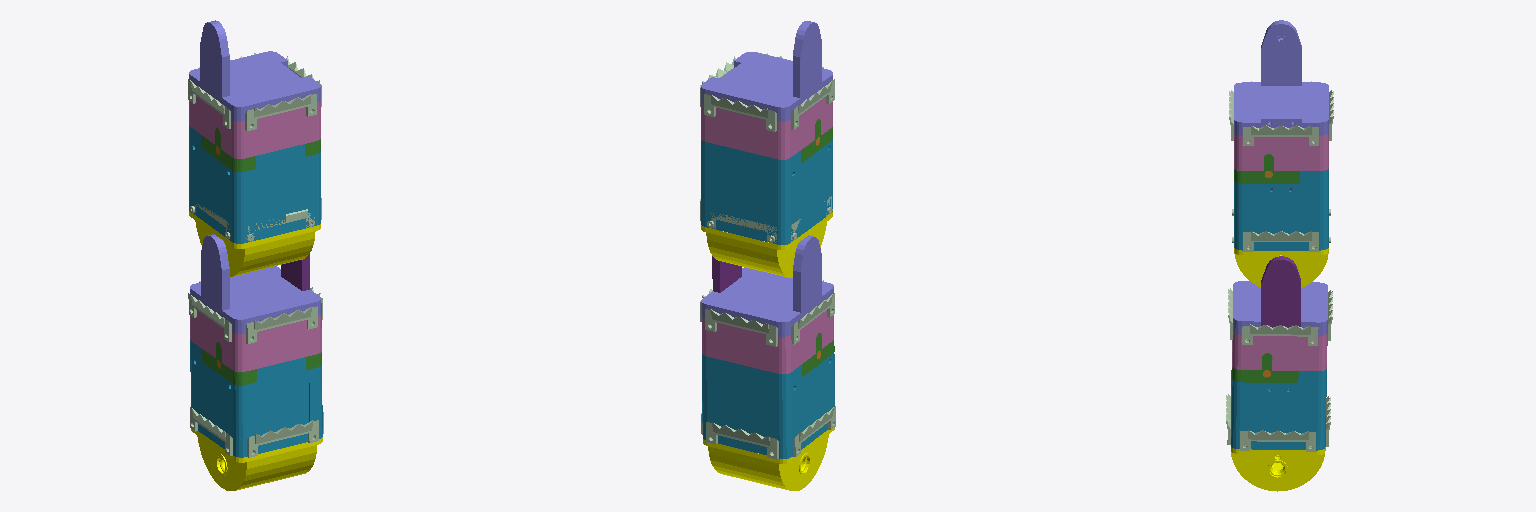
--- Facts derived from the render (not from the file) ---
Views: 3 orthographic renders of the robot side by side, from view 1: azimuth 30°, elevation 25°; view 2: azimuth 150°, elevation 25°; view 3: azimuth 270°, elevation 25°.
Robot: modulessai — 33 links, 32 joints (32 fixed); root link base_footprint; default pose: every joint at zero.
Links seen in each view (by area): view 1: shell2, shell1, slide_key_joint_2, slide_key_joint1, slide_key, slide_key2, joint_enclosure1, joint_enclosure2, scale6, scale16, scale2, slide_clip2 (+5 smaller); view 2: shell2, shell1, slide_key_joint_2, slide_key_joint1, slide_key2, slide_key, joint_enclosure1, joint_enclosure2, scale14, scale4, scale8, Slide_key_joint_single1 (+3 smaller); view 3: slide_key_joint_2, shell2, shell1, joint_enclosure1, slide_key, slide_key2, Slide_key_joint_single1, slide_key_joint1, joint_enclosure2, slide_clip4, scale3, scale15 (+3 smaller).
Boxes of the visible links, x1,y1,x2,y2 form: shell2: (189,126,320,243); shell1: (190,340,322,457); slide_key_joint_2: (189,20,320,120); slide_key_joint1: (190,234,321,333); slide_key: (190,310,321,371); slide_key2: (189,96,320,158); joint_enclosure1: (191,429,322,490); joint_enclosure2: (189,211,320,276); scale6: (246,306,317,343); scale16: (245,94,316,130); scale2: (247,420,318,457); slide_clip2: (202,342,256,385); shell2: (701,140,832,244); shell1: (702,354,834,458); slide_key_joint_2: (701,21,832,121); slide_key_joint1: (701,235,833,336); slide_key2: (701,97,832,159); slide_key: (701,310,833,373); joint_enclosure1: (703,428,834,490); joint_enclosure2: (701,212,832,277); scale14: (704,94,776,131); scale4: (706,422,778,459); scale8: (705,309,777,346); Slide_key_joint_single1: (712,256,741,292); slide_key_joint_2: (1234,20,1328,135); shell2: (1234,169,1328,250); shell1: (1231,369,1326,450); joint_enclosure1: (1231,447,1325,491); slide_key: (1232,332,1327,370); slide_key2: (1234,133,1328,170); Slide_key_joint_single1: (1261,256,1300,327); slide_key_joint1: (1233,281,1327,335); joint_enclosure2: (1234,248,1328,287); slide_clip4: (1234,154,1299,183); scale3: (1240,430,1315,451); scale15: (1243,125,1318,145).
Bounding box of the posed robot: 0.1 × 0.1028 × 0.4553 m (x, y, z).
Meshes: 32 distinct files referenced, 32 mesh visuals loaded (32 binary STL).

The robot description file, URDF, robot "modulessai":
<?xml version="1.0" encoding="utf-8"?>
<!-- This URDF was automatically created by SolidWorks to URDF Exporter! Originally created by Stephen Brawner ([email redacted]) 
     Commit Version: 1.6.0-4-g7f85cfe  Build Version: 1.6.7995.38578
     For more information, please see http://wiki.ros.org/sw_urdf_exporter -->
     
<!-- https://answers.ros.org/question/273947/moving-joints-in-gazebo-simple-example/
	here is a good explanation  -->
<robot
  name="modulessai">
  
       <gazebo>
    <plugin name="gazebo_ros_control" filename="libgazebo_ros_control.so">
      <robotNamespace>/modulessai</robotNamespace>
    </plugin>
  </gazebo>
  
    <!-- transmission -->
  <transmission name="serpent_main_trans">
    <type>transmission_interface/SimpleTransmission</type>
    <actuator name="motor1">
      <mechanicalReduction>1</mechanicalReduction>
    </actuator>
    <joint name="serpent_main_joint">
      <hardwareInterface>EffortJointInterface</hardwareInterface>
    </joint>
  </transmission>

  
  <link name= "base_footprint" />
  
  <joint name="base_footprint_joint" type="fixed">
    <parent link="base_footprint" />
    <child link="shell1" />
  	</joint>
  
  <link
    name="shell1">
    <inertial>
      <origin
        xyz="-0.137752474041725 -0.28857138668512 -0.0911551999213709"
        rpy="0 0 0" />
      <mass
        value="0.149969789596091" />
      <inertia
        ixx="0.000241116455312842"
        ixy="-2.60925021680345E-07"
        ixz="4.80846729441766E-06"
        iyy="0.000295272937582447"
        iyz="-7.25953669690205E-06"
        izz="0.000232451898515766" /> 
    </inertial> 
    <visual>
      <origin
        xyz="0 0 0"
        rpy="0 0 0" />
      <geometry>
        <mesh
          filename="package://modulessai/meshes/shell1.STL" />
      </geometry>
      <material
        name="">
        <color
          rgba="0.184313725490196 0.623529411764706 0.764705882352941 1" />
      </material>
    </visual>
    <collision>
      <origin
        xyz="0 0 0"
        rpy="0 0 0" />
      <geometry>
        <mesh
          filename="package://modulessai/meshes/shell1.STL" />
      </geometry>
    </collision>
  </link>
  
  
  <link
    name="joint_enclosure1">
    <inertial>
      <origin
        xyz="0.000728105326579437 0.0153717427480426 -1.38777878078145E-17"
        rpy="0 0 0" />
      <mass
        value="0.086298769218844" />
      <inertia
        ixx="9.26816517396861E-05"
        ixy="-4.43711727546318E-07"
        ixz="-2.90469731967602E-19"
        iyy="0.000134079311341853"
        iyz="2.76344499041715E-20"
        izz="8.33584269751399E-05" />
    </inertial>
    <visual>
      <origin
        xyz="0 0 0"
        rpy="0 0 0" />
      <geometry>
        <mesh
          filename="package://modulessai/meshes/joint_enclosure1.STL" />
      </geometry>
      <material
        name="">
        <color
          rgba="1 1 0 1" />
      </material>
    </visual>
    <collision>
      <origin
        xyz="0 0 0"
        rpy="0 0 0" />
      <geometry>
        <mesh
          filename="package://modulessai/meshes/joint_enclosure1.STL" />
      </geometry>
    </collision>
  </link>
  
  
  <joint
    name="link1"
    type="fixed">
    <origin
      xyz="-0.138611885720108 0.0874338259129821 -0.339597997361827"
      rpy="-1.55293238419691 0 -3.14159265358979" />
    <parent
      link="shell1" />
    <child
      link="joint_enclosure1" />
    <axis
      xyz="0 0 0" />
  </joint>
  
  
  <link
    name="scale1">
    <inertial>
      <origin
        xyz="0.00180494203523468 0.00171959315377845 2.77555756156289E-17"
        rpy="0 0 0" />
      <mass
        value="0.00277406773557276" />
      <inertia
        ixx="1.47877580081592E-06"
        ixy="-6.2959094439328E-09"
        ixz="4.52157602336799E-22"
        iyy="1.54068706060032E-06"
        iyz="-2.20276646159223E-20"
        izz="6.9326362321011E-08" />
    </inertial>
    <visual>
      <origin
        xyz="0 0 0"
        rpy="0 0 0" />
      <geometry>
        <mesh
          filename="package://modulessai/meshes/scale1.STL" />
      </geometry>
      <material
        name="">
        <color
          rgba="0.717647058823529 0.819607843137255 0.701960784313725 1" />
      </material>
    </visual>
    <collision>
      <origin
        xyz="0 0 0"
        rpy="0 0 0" />
      <geometry>
        <mesh
          filename="package://modulessai/meshes/scale1.STL" />
      </geometry>
    </collision>
  </link>
  
  
  <joint
    name="link2"
    type="fixed">
    <origin
      xyz="-0.183611885720101 0.0876577175390072 -0.323751468327803"
      rpy="0 -1.5529323841969 1.5707963267949" />
    <parent
      link="shell1" />
    <child
      link="scale1" />
    <axis
      xyz="0 0 0" />
  </joint>
  
  
  <link
    name="scale2">
    <inertial>
      <origin
        xyz="0.00180494203523462 0.00171959315377848 -2.77555756156289E-17"
        rpy="0 0 0" />
      <mass
        value="0.00277406773557276" />
      <inertia
        ixx="1.47877580081592E-06"
        ixy="-6.29590944393272E-09"
        ixz="1.75019022698003E-21"
        iyy="1.54068706060031E-06"
        iyz="7.86684050294891E-22"
        izz="6.93263623210111E-08" />
    </inertial>
    <visual>
      <origin
        xyz="0 0 0"
        rpy="0 0 0" />
      <geometry>
        <mesh
          filename="package://modulessai/meshes/scale2.STL" />
      </geometry>
      <material
        name="">
        <color
          rgba="0.717647058823529 0.819607843137255 0.701960784313725 1" />
      </material>
    </visual>
    <collision>
      <origin
        xyz="0 0 0"
        rpy="0 0 0" />
      <geometry>
        <mesh
          filename="package://modulessai/meshes/scale2.STL" />
      </geometry>
    </collision>
  </link>
  
  
  <joint
    name="link3"
    type="fixed">
    <origin
      xyz="-0.138611885720103 0.0426648975580864 -0.32294763366583"
      rpy="1.5707963267944 -1.55293238419692 1.57079632679536" />
    <parent
      link="shell1" />
    <child
      link="scale2" />
    <axis
      xyz="0 0 0" />
  </joint>
  
  
  <link
    name="scale3">
    <inertial>
      <origin
        xyz="0.00180494203523474 0.00171959315377847 -1.38777878078145E-17"
        rpy="0 0 0" />
      <mass
        value="0.00277406773557275" />
      <inertia
        ixx="1.47877580081591E-06"
        ixy="-6.29590944393247E-09"
        ixz="1.15288297874578E-22"
        iyy="1.54068706060031E-06"
        iyz="3.17440826385798E-22"
        izz="6.93263623210108E-08" />
    </inertial>
    <visual>
      <origin
        xyz="0 0 0"
        rpy="0 0 0" />
      <geometry>
        <mesh
          filename="package://modulessai/meshes/scale3.STL" />
      </geometry>
      <material
        name="">
        <color
          rgba="0.717647058823529 0.819607843137255 0.701960784313725 1" />
      </material>
    </visual>
    <collision>
      <origin
        xyz="0 0 0"
        rpy="0 0 0" />
      <geometry>
        <mesh
          filename="package://modulessai/meshes/scale3.STL" />
      </geometry>
    </collision>
  </link>
  
  
  <joint
    name="link4"
    type="fixed">
    <origin
      xyz="-0.0936118857201089 0.0876577175390119 -0.323751468327802"
      rpy="3.14159265358979 -1.5529323841969 1.57079632679488" />
    <parent
      link="shell1" />
    <child
      link="scale3" />
    <axis
      xyz="0 0 0" />
  </joint>
  
  
  <link
    name="scale4">
    <inertial>
      <origin
        xyz="0.00180494203523468 0.00171959315377848 0"
        rpy="0 0 0" />
      <mass
        value="0.00277406773557275" />
      <inertia
        ixx="1.47877580081592E-06"
        ixy="-6.29590944393258E-09"
        ixz="-1.96229555091384E-21"
        iyy="1.54068706060032E-06"
        iyz="8.4361466844145E-22"
        izz="6.93263623210107E-08" />
    </inertial>
    <visual>
      <origin
        xyz="0 0 0"
        rpy="0 0 0" />
      <geometry>
        <mesh
          filename="package://modulessai/meshes/scale4.STL" />
      </geometry>
      <material
        name="">
        <color
          rgba="0.717647058823529 0.819607843137255 0.701960784313725 1" />
      </material>
    </visual>
    <collision>
      <origin
        xyz="0 0 0"
        rpy="0 0 0" />
      <geometry>
        <mesh
          filename="package://modulessai/meshes/scale4.STL" />
      </geometry>
    </collision>
  </link>
  
  
  <joint
    name="link5"
    type="fixed">
    <origin
      xyz="-0.138611885720101 0.132650537519933 -0.324555302989774"
      rpy="-1.57079632679539 -1.55293238419692 1.57079632679536" />
    <parent
      link="shell1" />
    <child
      link="scale4" />
    <axis
      xyz="0 0 0" />
  </joint>
  
  
  <link
    name="slide_clip1">
    <inertial>
      <origin
        xyz="0.0234487598891086 0.00135531493757457 -0.00207575724154209"
        rpy="0 0 0" />
      <mass
        value="0.00341955141627611" />
      <inertia
        ixx="2.23045867605256E-07"
        ixy="-3.49967441924723E-08"
        ixz="-2.11254063898286E-07"
        iyy="1.45766429318795E-06"
        iyz="-1.44678561290794E-08"
        izz="1.47815966491544E-06" />
    </inertial>
    <visual>
      <origin
        xyz="0 0 0"
        rpy="0 0 0" />
      <geometry>
        <mesh
          filename="package://modulessai/meshes/slide_clip1.STL" />
      </geometry>
      <material
        name="">
        <color
          rgba="0.298039215686275 0.6 0.23921568627451 1" />
      </material>
    </visual>
    <collision>
      <origin
        xyz="0 0 0"
        rpy="0 0 0" />
      <geometry>
        <mesh
          filename="package://modulessai/meshes/slide_clip1.STL" />
      </geometry>
    </collision>
  </link>
  
  
  <joint
    name="link6"
    type="fixed">
    <origin
      xyz="-0.0956118857201107 0.045837319628965 -0.257341834819973"
      rpy="1.5707963267949 0.0178639425979808 1.57079632679487" />
    <parent
      link="shell1" />
    <child
      link="slide_clip1" />
    <axis
      xyz="0 0 0" />
  </joint>
  
  
  <link
    name="slide_clip2">
    <inertial>
      <origin
        xyz="0.0234487598891086 -0.00135531493757463 -0.00207575724154208"
        rpy="0 0 0" />
      <mass
        value="0.0034195514162761" />
      <inertia
        ixx="2.23045867605256E-07"
        ixy="3.49967441924725E-08"
        ixz="-2.11254063898287E-07"
        iyy="1.45766429318795E-06"
        iyz="1.44678561290795E-08"
        izz="1.47815966491544E-06" />
    </inertial>
    <visual>
      <origin
        xyz="0 0 0"
        rpy="0 0 0" />
      <geometry>
        <mesh
          filename="package://modulessai/meshes/slide_clip2.STL" />
      </geometry>
      <material
        name="">
        <color
          rgba="0.298039215686275 0.6 0.23921568627451 1" />
      </material>
    </visual>
    <collision>
      <origin
        xyz="0 0 0"
        rpy="0 0 0" />
      <geometry>
        <mesh
          filename="package://modulessai/meshes/slide_clip2.STL" />
      </geometry>
    </collision>
  </link>
  
  
  <joint
    name="link7"
    type="fixed">
    <origin
      xyz="-0.181611885720103 0.0458373196289683 -0.257341834819973"
      rpy="-1.5707963267949 0.0178639425979808 1.57079632679487" />
    <parent
      link="shell1" />
    <child
      link="slide_clip2" />
    <axis
      xyz="0 0 0" />
  </joint>
  
  
  <link
    name="slide_arm">
    <inertial>
      <origin
        xyz="-1.38777878078145E-16 -0.00481240110658876 0.0117181257665583"
        rpy="0 0 0" />
      <mass
        value="0.0348117344572538" />
      <inertia
        ixx="9.03849739921105E-06"
        ixy="-5.3280430666022E-20"
        ixz="-3.97812755362216E-19"
        iyy="4.17590858992555E-05"
        iyz="5.70343658389085E-08"
        izz="3.49135501039211E-05" />
    </inertial>
    <visual>
      <origin
        xyz="0 0 0"
        rpy="0 0 0" />
      <geometry>
        <mesh
          filename="package://modulessai/meshes/slide_arm.STL" />
      </geometry>
      <material
        name="">
        <color
          rgba="0.858823529411765 0.568627450980392 0.215686274509804 1" />
      </material>
    </visual>
    <collision>
      <origin
        xyz="0 0 0"
        rpy="0 0 0" />
      <geometry>
        <mesh
          filename="package://modulessai/meshes/slide_arm.STL" />
      </geometry>
    </collision>
  </link>
  
  
  <joint
    name="link8"
    type="fixed">
    <origin
      xyz="0.0429999999999996 -0.0104999999999987 -0.0430000000000005"
      rpy="3.14159265358979 1.5707963267949 0" />
    <parent
      link="slide_clip2" />
    <child
      link="slide_arm" />
    <axis
      xyz="0 0 0" />
  </joint>
  
  
  <link
    name="slide_key">
    <inertial>
      <origin
        xyz="-2.77555756156289E-17 0.0261791873249705 0.000493743649983239"
        rpy="0 0 0" />
      <mass
        value="0.0788872703821433" />
      <inertia
        ixx="9.11147019581268E-05"
        ixy="-8.87335562729999E-20"
        ixz="-1.30304976498355E-19"
        iyy="0.000144612810542726"
        iyz="-1.56020046014635E-06"
        izz="7.99530497194302E-05" />
    </inertial>
    <visual>
      <origin
        xyz="0 0 0"
        rpy="0 0 0" />
      <geometry>
        <mesh
          filename="package://modulessai/meshes/slide_key.STL" />
      </geometry>
      <material
        name="">
        <color
          rgba="0.807843137254902 0.509803921568627 0.729411764705882 1" />
      </material>
    </visual>
    <collision>
      <origin
        xyz="0 0 0"
        rpy="0 0 0" />
      <geometry>
        <mesh
          filename="package://modulessai/meshes/slide_key.STL" />
      </geometry>
    </collision>
  </link>
  
  
  <joint
    name="link9"
    type="fixed">
    <origin
      xyz="-0.138611885720102 0.0896074988950939 -0.214616884182071"
      rpy="-1.5529323841969 0 -3.14159265358979" />
    <parent
      link="shell1" />
    <child
      link="slide_key" />
    <axis
      xyz="0 0 0" />
  </joint>
  
  
  <link
    name="scale5">
    <inertial>
      <origin
        xyz="0.00180494203523471 0.00171959315377845 1.38777878078145E-17"
        rpy="0 0 0" />
      <mass
        value="0.00277406773557275" />
      <inertia
        ixx="1.47877580081591E-06"
        ixy="-6.29590944393263E-09"
        ixz="-1.90768528770042E-22"
        iyy="1.54068706060031E-06"
        iyz="-2.19860333819092E-20"
        izz="6.93263623210107E-08" />
    </inertial>
    <visual>
      <origin
        xyz="0 0 0"
        rpy="0 0 0" />
      <geometry>
        <mesh
          filename="package://modulessai/meshes/scale5.STL" />
      </geometry>
      <material
        name="">
        <color
          rgba="0.717647058823529 0.819607843137255 0.701960784313725 1" />
      </material>
    </visual>
    <collision>
      <origin
        xyz="0 0 0"
        rpy="0 0 0" />
      <geometry>
        <mesh
          filename="package://modulessai/meshes/scale5.STL" />
      </geometry>
    </collision>
  </link>
  
  
  <joint
    name="link10"
    type="fixed">
    <origin
      xyz="0.044999999999999 -0.00142400000000018 0"
      rpy="0 0 -1.5707963267949" />
    <parent
      link="slide_key" />
    <child
      link="scale5" />
    <axis
      xyz="0 0 0" />
  </joint>
  
  
  <link
    name="scale6">
    <inertial>
      <origin
        xyz="0.00180494203523471 0.00171959315377847 2.77555756156289E-17"
        rpy="0 0 0" />
      <mass
        value="0.00277406773557275" />
      <inertia
        ixx="1.47877580081592E-06"
        ixy="-6.29590944393274E-09"
        ixz="2.27643895219469E-21"
        iyy="1.54068706060031E-06"
        iyz="-1.72724543618611E-21"
        izz="6.93263623210109E-08" />
    </inertial>
    <visual>
      <origin
        xyz="0 0 0"
        rpy="0 0 0" />
      <geometry>
        <mesh
          filename="package://modulessai/meshes/scale6.STL" />
      </geometry>
      <material
        name="">
        <color
          rgba="0.717647058823529 0.819607843137255 0.701960784313725 1" />
      </material>
    </visual>
    <collision>
      <origin
        xyz="0 0 0"
        rpy="0 0 0" />
      <geometry>
        <mesh
          filename="package://modulessai/meshes/scale6.STL" />
      </geometry>
    </collision>
  </link>
  
  
  <joint
    name="link11"
    type="fixed">
    <origin
      xyz="0 -0.0014240000000004 0.045"
      rpy="1.57079632679488 0 -1.57079632679489" />
    <parent
      link="slide_key" />
    <child
      link="scale6" />
    <axis
      xyz="0 0 0" />
  </joint>
  
  
  <link
    name="scale7">
    <inertial>
      <origin
        xyz="0.00180494203523471 0.00171959315377847 0"
        rpy="0 0 0" />
      <mass
        value="0.00277406773557276" />
      <inertia
        ixx="1.47877580081592E-06"
        ixy="-6.29590944393265E-09"
        ixz="5.6351679230175E-23"
        iyy="1.54068706060032E-06"
        iyz="5.21173611065069E-22"
        izz="6.93263623210111E-08" />
    </inertial>
    <visual>
      <origin
        xyz="0 0 0"
        rpy="0 0 0" />
      <geometry>
        <mesh
          filename="package://modulessai/meshes/scale7.STL" />
      </geometry>
      <material
        name="">
        <color
          rgba="0.717647058823529 0.819607843137255 0.701960784313725 1" />
      </material>
    </visual>
    <collision>
      <origin
        xyz="0 0 0"
        rpy="0 0 0" />
      <geometry>
        <mesh
          filename="package://modulessai/meshes/scale7.STL" />
      </geometry>
    </collision>
  </link>
  
  
  <joint
    name="link12"
    type="fixed">
    <origin
      xyz="-0.045 -0.00142399999999981 0"
      rpy="3.14159265358978 0 -1.5707963267949" />
    <parent
      link="slide_key" />
    <child
      link="scale7" />
    <axis
      xyz="0 0 0" />
  </joint>
  
  
  <link
    name="scale8">
    <inertial>
      <origin
        xyz="0.00180494203523471 0.00171959315377848 0"
        rpy="0 0 0" />
      <mass
        value="0.00277406773557276" />
      <inertia
        ixx="1.47877580081592E-06"
        ixy="-6.29590944393263E-09"
        ixz="-2.66115800927088E-21"
        iyy="1.54068706060032E-06"
        iyz="-1.7881667874025E-21"
        izz="6.93263623210113E-08" />
    </inertial>
    <visual>
      <origin
        xyz="0 0 0"
        rpy="0 0 0" />
      <geometry>
        <mesh
          filename="package://modulessai/meshes/scale8.STL" />
      </geometry>
      <material
        name="">
        <color
          rgba="0.717647058823529 0.819607843137255 0.701960784313725 1" />
      </material>
    </visual>
    <collision>
      <origin
        xyz="0 0 0"
        rpy="0 0 0" />
      <geometry>
        <mesh
          filename="package://modulessai/meshes/scale8.STL" />
      </geometry>
    </collision>
  </link>
  
  
  <joint
    name="link13"
    type="fixed">
    <origin
      xyz="0 -0.00142400000000062 -0.044999999999999"
      rpy="-1.57079632679491 0 -1.57079632679489" />
    <parent
      link="slide_key" />
    <child
      link="scale8" />
    <axis
      xyz="0 0 0" />
  </joint>
  
  
  <link
    name="slide_key_joint1">
    <inertial>
      <origin
        xyz="-0.00611883580857539 0.0105253613332661 -8.32667268468867E-17"
        rpy="0 0 0" />
      <mass
        value="0.139120636589193" />
      <inertia
        ixx="0.00011952290446569"
        ixy="2.35906411700336E-05"
        ixz="-2.96355652420615E-19"
        iyy="0.0001952269452155"
        iyz="3.30131091192364E-19"
        izz="0.000137197507218594" />
    </inertial>
    <visual>
      <origin
        xyz="0 0 0"
        rpy="0 0 0" />
      <geometry>
        <mesh
          filename="package://modulessai/meshes/slide_key_joint1.STL" />
      </geometry>
      <material
        name="">
        <color
          rgba="0.552941176470588 0.549019607843137 0.890196078431372 1" />
      </material>
    </visual>
    <collision>
      <origin
        xyz="0 0 0"
        rpy="0 0 0" />
      <geometry>
        <mesh
          filename="package://modulessai/meshes/slide_key_joint1.STL" />
      </geometry>
    </collision>
  </link>
  
  
  <joint
    name="link14"
    type="fixed">
    <origin
      xyz="0 0 0"
      rpy="0 0 3.14159265358969" />
    <parent
      link="slide_key" />
    <child
      link="slide_key_joint1" />
    <axis
      xyz="0 0 0" />
  </joint>
  
  
  <link
    name="joint_enclosure2">
    <inertial>
      <origin
        xyz="0.000728105326579465 0.0153717427480425 0"
        rpy="0 0 0" />
      <mass
        value="0.0862987692188441" />
      <inertia
        ixx="9.26816517396861E-05"
        ixy="-4.43711727546301E-07"
        ixz="-1.34701800953061E-19"
        iyy="0.000134079311341853"
        iyz="4.95646481478354E-21"
        izz="8.33584269751398E-05" />
    </inertial>
    <visual>
      <origin
        xyz="0 0 0"
        rpy="0 0 0" />
      <geometry>
        <mesh
          filename="package://modulessai/meshes/joint_enclosure2.STL" />
      </geometry>
      <material
        name="">
        <color
          rgba="1 1 0 1" />
      </material>
    </visual>
    <collision>
      <origin
        xyz="0 0 0"
        rpy="0 0 0" />
      <geometry>
        <mesh
          filename="package://modulessai/meshes/joint_enclosure2.STL" />
      </geometry>
    </collision>
  </link>
  
  
  <joint
    name="link16"
    type="fixed">
    <origin
      xyz="0 0.0837468487694076 0.00035279410164156"
      rpy="-0.0178639425979842 0 -3.14159265358969" />
    <parent
      link="slide_key_joint1" />
    <child
      link="joint_enclosure2" />
    <axis
      xyz="0 0 0" />
  </joint>
  
  
  <link
    name="shell2">
    <inertial>
      <origin
        xyz="-0.00085941167838019 -0.00286850280401474 0.00708494395182878"
        rpy="0 0 0" />
      <mass
        value="0.149969789596091" />
      <inertia
        ixx="0.000241116455312841"
        ixy="-4.80303917300663E-06"
        ixz="3.46777004692976E-07"
        iyy="0.000232212631143815"
        iyz="-6.13291115683898E-06"
        izz="0.000295512204954397" />
    </inertial>
    <visual>
      <origin
        xyz="0 0 0"
        rpy="0 0 0" />
      <geometry>
        <mesh
          filename="package://modulessai/meshes/shell2.STL" />
      </geometry>
      <material
        name="">
        <color
          rgba="0.184313725490196 0.623529411764706 0.764705882352941 1" />
      </material>
    </visual>
    <collision>
      <origin
        xyz="0 0 0"
        rpy="0 0 0" />
      <geometry>
        <mesh
          filename="package://modulessai/meshes/shell2.STL" />
      </geometry>
    </collision>
  </link>
  
  
  <joint
    name="link17"
    type="fixed">
    <origin
      xyz="0 -0.043999999999996 5.92105263200055E-05"
      rpy="1.57079632679491 0 0" />
    <parent
      link="joint_enclosure2" />
    <child
      link="shell2" />
    <axis
      xyz="0 0 0" />
  </joint>
  
  
  <link
    name="scale9">
    <inertial>
      <origin
        xyz="0.00180494203523471 0.00171959315377848 8.32667268468867E-17"
        rpy="0 0 0" />
      <mass
        value="0.00277406773557275" />
      <inertia
        ixx="1.47877580081591E-06"
        ixy="-6.2959094439327E-09"
        ixz="-1.19189599054522E-22"
        iyy="1.54068706060031E-06"
        iyz="-1.4793884274204E-21"
        izz="6.93263623210108E-08" />
    </inertial>
    <visual>
      <origin
        xyz="0 0 0"
        rpy="0 0 0" />
      <geometry>
        <mesh
          filename="package://modulessai/meshes/scale9.STL" />
      </geometry>
      <material
        name="">
        <color
          rgba="0.717647058823529 0.819607843137255 0.701960784313725 1" />
      </material>
    </visual>
    <collision>
      <origin
        xyz="0 0 0"
        rpy="0 0 0" />
      <geometry>
        <mesh
          filename="package://modulessai/meshes/scale9.STL" />
      </geometry>
    </collision>
  </link>
  
  
  <joint
    name="link18"
    type="fixed">
    <origin
      xyz="0 -0.0449999999999954 -0.0281519999999963"
      rpy="0 -1.5707963267949 0" />
    <parent
      link="shell2" />
    <child
      link="scale9" />
    <axis
      xyz="0 0 0" />
  </joint>
  
  
  <link
    name="scale10">
    <inertial>
      <origin
        xyz="0.00180494203523469 0.00171959315377848 1.38777878078145E-17"
        rpy="0 0 0" />
      <mass
        value="0.00277406773557276" />
      <inertia
        ixx="1.47877580081592E-06"
        ixy="-6.29590944393266E-09"
        ixz="2.10183701632039E-20"
        iyy="1.54068706060032E-06"
        iyz="-1.03458240094092E-22"
        izz="6.93263623210108E-08" />
    </inertial>
    <visual>
      <origin
        xyz="0 0 0"
        rpy="0 0 0" />
      <geometry>
        <mesh
          filename="package://modulessai/meshes/scale10.STL" />
      </geometry>
      <material
        name="">
        <color
          rgba="0.717647058823529 0.819607843137255 0.701960784313725 1" />
      </material>
    </visual>
    <collision>
      <origin
        xyz="0 0 0"
        rpy="0 0 0" />
      <geometry>
        <mesh
          filename="package://modulessai/meshes/scale10.STL" />
      </geometry>
    </collision>
  </link>
  
  
  <joint
    name="link19"
    type="fixed">
    <origin
      xyz="-0.0449999999999958 0 -0.0281519999999962"
      rpy="1.5707963267949 -1.5707963267949 0" />
    <parent
      link="shell2" />
    <child
      link="scale10" />
    <axis
      xyz="0 0 0" />
  </joint>
  
  
  <link
    name="scale11">
    <inertial>
      <origin
        xyz="0.00180494203523468 0.00171959315377847 -2.77555756156289E-17"
        rpy="0 0 0" />
      <mass
        value="0.00277406773557276" />
      <inertia
        ixx="1.47877580081592E-06"
        ixy="-6.29590944393265E-09"
        ixz="7.07386108021792E-22"
        iyy="1.54068706060031E-06"
        iyz="-1.70248478291909E-21"
        izz="6.9326362321011E-08" />
    </inertial>
    <visual>
      <origin
        xyz="0 0 0"
        rpy="0 0 0" />
      <geometry>
        <mesh
          filename="package://modulessai/meshes/scale11.STL" />
      </geometry>
      <material
        name="">
        <color
          rgba="0.717647058823529 0.819607843137255 0.701960784313725 1" />
      </material>
    </visual>
    <collision>
      <origin
        xyz="0 0 0"
        rpy="0 0 0" />
      <geometry>
        <mesh
          filename="package://modulessai/meshes/scale11.STL" />
      </geometry>
    </collision>
  </link>
  
  
  <joint
    name="link20"
    type="fixed">
    <origin
      xyz="0 0.0449999999999946 -0.0281519999999967"
      rpy="3.14159265358979 -1.5707963267949 0" />
    <parent
      link="shell2" />
    <child
      link="scale11" />
    <axis
      xyz="0 0 0" />
  </joint>
  
  
  <link
    name="scale12">
    <inertial>
      <origin
        xyz="0.00180494203523472 0.00171959315377851 -1.38777878078145E-17"
        rpy="0 0 0" />
      <mass
        value="0.00277406773557276" />
      <inertia
        ixx="1.47877580081592E-06"
        ixy="-6.29590944393267E-09"
        ixz="-2.11549896033941E-20"
        iyy="1.54068706060032E-06"
        iyz="9.56655464085523E-23"
        izz="6.93263623210111E-08" />
    </inertial>
    <visual>
      <origin
        xyz="0 0 0"
        rpy="0 0 0" />
      <geometry>
        <mesh
          filename="package://modulessai/meshes/scale12.STL" />
      </geometry>
      <material
        name="">
        <color
          rgba="0.717647058823529 0.819607843137255 0.701960784313725 1" />
      </material>
    </visual>
    <collision>
      <origin
        xyz="0 0 0"
        rpy="0 0 0" />
      <geometry>
        <mesh
          filename="package://modulessai/meshes/scale12.STL" />
      </geometry>
    </collision>
  </link>
  
  
  <joint
    name="link21"
    type="fixed">
    <origin
      xyz="0.0449999999999962 0 -0.0281519999999967"
      rpy="1.5707963267949 -1.5707963267949 0" />
    <parent
      link="shell2" />
    <child
      link="scale12" />
    <axis
      xyz="0 0 0" />
  </joint>
  
  
  <link
    name="slide_clip3">
    <inertial>
      <origin
        xyz="0.0234487598891084 -0.0013553149375747 -0.00207575724154238"
        rpy="0 0 0" />
      <mass
        value="0.0034195514162761" />
      <inertia
        ixx="2.23045867605252E-07"
        ixy="3.49967441924773E-08"
        ixz="-2.11254063898272E-07"
        iyy="1.45766429318795E-06"
        iyz="1.44678561290803E-08"
        izz="1.47815966491544E-06" />
    </inertial>
    <visual>
      <origin
        xyz="0 0 0"
        rpy="0 0 0" />
      <geometry>
        <mesh
          filename="package://modulessai/meshes/slide_clip3.STL" />
      </geometry>
      <material
        name="">
        <color
          rgba="0.298039215686275 0.6 0.23921568627451 1" />
      </material>
    </visual>
    <collision>
      <origin
        xyz="0 0 0"
        rpy="0 0 0" />
      <geometry>
        <mesh
          filename="package://modulessai/meshes/slide_clip3.STL" />
      </geometry>
    </collision>
  </link>
  
  
  <joint
    name="link22"
    type="fixed">
    <origin
      xyz="0.0429999999999968 0.0429999999999946 0.0374999999999956"
      rpy="-1.57079632679489 0 -1.5707963267949" />
    <parent
      link="shell2" />
    <child
      link="slide_clip3" />
    <axis
      xyz="0 0 0" />
  </joint>
  
  
  <link
    name="slide_arm2">
    <inertial>
      <origin
        xyz="-2.77555756156289E-17 -0.00481240110658882 0.0117181257665583"
        rpy="0 0 0" />
      <mass
        value="0.0348117344572539" />
      <inertia
        ixx="9.03849739921106E-06"
        ixy="8.81047252945334E-22"
        ixz="2.87950685439692E-21"
        iyy="4.17590858992556E-05"
        iyz="5.70343658389088E-08"
        izz="3.49135501039212E-05" />
    </inertial>
    <visual>
      <origin
        xyz="0 0 0"
        rpy="0 0 0" />
      <geometry>
        <mesh
          filename="package://modulessai/meshes/slide_arm2.STL" />
      </geometry>
      <material
        name="">
        <color
          rgba="0.858823529411765 0.568627450980392 0.215686274509804 1" />
      </material>
    </visual>
    <collision>
      <origin
        xyz="0 0 0"
        rpy="0 0 0" />
      <geometry>
        <mesh
          filename="package://modulessai/meshes/slide_arm2.STL" />
      </geometry>
    </collision>
  </link>
  
  
  <joint
    name="link24"
    type="fixed">
    <origin
      xyz="0.042999999999999 -0.010499999999999 -0.043000000000001"
      rpy="3.14159265358979 1.5707963267949 0" />
    <parent
      link="slide_clip3" />
    <child
      link="slide_arm2" />
    <axis
      xyz="0 0 0" />
  </joint>
  
  
  <link
    name="slide_clip4">
    <inertial>
      <origin
        xyz="0.0234487598891085 0.00135531493757467 -0.00207575724154178"
        rpy="0 0 0" />
      <mass
        value="0.00341955141627611" />
      <inertia
        ixx="2.23045867605264E-07"
        ixy="-3.49967441924764E-08"
        ixz="-2.11254063898307E-07"
        iyy="1.45766429318795E-06"
        iyz="-1.44678561290807E-08"
        izz="1.47815966491544E-06" />
    </inertial>
    <visual>
      <origin
        xyz="0 0 0"
        rpy="0 0 0" />
      <geometry>
        <mesh
          filename="package://modulessai/meshes/slide_clip4.STL" />
      </geometry>
      <material
        name="">
        <color
          rgba="0.298039215686275 0.6 0.23921568627451 1" />
      </material>
    </visual>
    <collision>
      <origin
        xyz="0 0 0"
        rpy="0 0 0" />
      <geometry>
        <mesh
          filename="package://modulessai/meshes/slide_clip4.STL" />
      </geometry>
    </collision>
  </link>
  
  
  <joint
    name="link23"
    type="fixed">
    <origin
      xyz="-0.0429999999999952 0.0429999999999966 0.0374999999999941"
      rpy="1.5707963267949 0 -1.5707963267949" />
    <parent
      link="shell2" />
    <child
      link="slide_clip4" />
    <axis
      xyz="0 0 0" />
  </joint>
  
  
  <link
    name="slide_key2">
    <inertial>
      <origin
        xyz="0 0.0261791873249705 0.000493743649983586"
        rpy="0 0 0" />
      <mass
        value="0.0788872703821434" />
      <inertia
        ixx="9.11147019581269E-05"
        ixy="5.42290601080777E-20"
        ixz="-9.93327290134446E-21"
        iyy="0.000144612810542726"
        iyz="-1.56020046014546E-06"
        izz="7.99530497194301E-05" />
    </inertial>
    <visual>
      <origin
        xyz="0 0 0"
        rpy="0 0 0" />
      <geometry>
        <mesh
          filename="package://modulessai/meshes/slide_key2.STL" />
      </geometry>
      <material
        name="">
        <color
          rgba="0.807843137254902 0.509803921568627 0.729411764705882 1" />
      </material>
    </visual>
    <collision>
      <origin
        xyz="0 0 0"
        rpy="0 0 0" />
      <geometry>
        <mesh
          filename="package://modulessai/meshes/slide_key2.STL" />
      </geometry>
    </collision>
  </link>
  
  
  <joint
    name="link25"
    type="fixed">
    <origin
      xyz="0 0 0.080999999999995"
      rpy="-1.57079632679491 0 0" />
    <parent
      link="shell2" />
    <child
      link="slide_key2" />
    <axis
      xyz="0 0 0" />
  </joint>
  
  
  <link
    name="slide_key_joint_2">
    <inertial>
      <origin
        xyz="-0.00611883580857434 0.0105253613332667 1.38777878078145E-17"
        rpy="0 0 0" />
      <mass
        value="0.139120636589193" />
      <inertia
        ixx="0.000119522904465695"
        ixy="2.35906411700413E-05"
        ixz="-1.00524664473982E-20"
        iyy="0.000195226945215495"
        iyz="1.40316547446192E-20"
        izz="0.000137197507218594" />
    </inertial>
    <visual>
      <origin
        xyz="0 0 0"
        rpy="0 0 0" />
      <geometry>
        <mesh
          filename="package://modulessai/meshes/slide_key_joint_2.STL" />
      </geometry>
      <material
        name="">
        <color
          rgba="0.552941176470588 0.549019607843137 0.890196078431372 1" />
      </material>
    </visual>
    <collision>
      <origin
        xyz="0 0 0"
        rpy="0 0 0" />
      <geometry>
        <mesh
          filename="package://modulessai/meshes/slide_key_joint_2.STL" />
      </geometry>
    </collision>
  </link>
  
  
  <joint
    name="link26"
    type="fixed">
    <origin
      xyz="0 0 0"
      rpy="0 0 3.14159265358979" />
    <parent
      link="slide_key2" />
    <child
      link="slide_key_joint_2" />
    <axis
      xyz="0 0 0" />
  </joint>
  
  
  <link
    name="Slide_key_joint_single2">
    <inertial>
      <origin
        xyz="-5.13478148889135E-16 -0.00400640060057854 -0.0345669419794044"
        rpy="0 0 0" />
      <mass
        value="0.0205196549446732" />
      <inertia
        ixx="8.52952925068962E-06"
        ixy="-1.1796237736564E-22"
        ixz="-9.24303762246536E-20"
        iyy="1.06743834501377E-05"
        iyz="-1.03900638216467E-08"
        izz="2.36373305241899E-06" />
    </inertial>
    <visual>
      <origin
        xyz="0 0 0"
        rpy="0 0 0" />
      <geometry>
        <mesh
          filename="package://modulessai/meshes/Slide_key_joint_single2.STL" />
      </geometry>
      <material
        name="">
        <color
          rgba="0.501960784313725 0.266666666666667 0.568627450980392 1" />
      </material>
    </visual>
    <collision>
      <origin
        xyz="0 0 0"
        rpy="0 0 0" />
      <geometry>
        <mesh
          filename="package://modulessai/meshes/Slide_key_joint_single2.STL" />
      </geometry>
    </collision>
  </link>
  
  
  <joint
    name="link27"
    type="fixed">
    <origin
      xyz="-0.037000000000001 -0.00399999999999978 0"
      rpy="1.57079632679489 -1.5707963267949 0" />
    <parent
      link="slide_key2" />
    <child
      link="Slide_key_joint_single2" />
    <axis
      xyz="0 0 0" />
  </joint>
  
  
  <link
    name="scale13">
    <inertial>
      <origin
        xyz="0.00180494203523469 0.00171959315377851 -1.38777878078145E-17"
        rpy="0 0 0" />
      <mass
        value="0.00277406773557275" />
      <inertia
        ixx="1.47877580081592E-06"
        ixy="-6.29590944393261E-09"
        ixz="-2.09284346520812E-20"
        iyy="1.54068706060031E-06"
        iyz="2.69114495593736E-22"
        izz="6.9326362321011E-08" />
    </inertial>
    <visual>
      <origin
        xyz="0 0 0"
        rpy="0 0 0" />
      <geometry>
        <mesh
          filename="package://modulessai/meshes/scale13.STL" />
      </geometry>
      <material
        name="">
        <color
          rgba="0.717647058823529 0.819607843137255 0.701960784313725 1" />
      </material>
    </visual>
    <collision>
      <origin
        xyz="0 0 0"
        rpy="0 0 0" />
      <geometry>
        <mesh
          filename="package://modulessai/meshes/scale13.STL" />
      </geometry>
    </collision>
  </link>
  
  
  <joint
    name="link28"
    type="fixed">
    <origin
      xyz="0.044999999999999 -0.00142400000000024 0"
      rpy="0 0 -1.5707963267949" />
    <parent
      link="slide_key2" />
    <child
      link="scale13" />
    <axis
      xyz="0 0 0" />
  </joint>
  
  
  <link
    name="scale14">
    <inertial>
      <origin
        xyz="0.00180494203523469 0.00171959315377851 -5.55111512312578E-17"
        rpy="0 0 0" />
      <mass
        value="0.00277406773557275" />
      <inertia
        ixx="1.47877580081591E-06"
        ixy="-6.29590944393349E-09"
        ixz="-1.25256798902654E-21"
        iyy="1.54068706060031E-06"
        iyz="-1.14939785423686E-22"
        izz="6.93263623210107E-08" />
    </inertial>
    <visual>
      <origin
        xyz="0 0 0"
        rpy="0 0 0" />
      <geometry>
        <mesh
          filename="package://modulessai/meshes/scale14.STL" />
      </geometry>
      <material
        name="">
        <color
          rgba="0.717647058823529 0.819607843137255 0.701960784313725 1" />
      </material>
    </visual>
    <collision>
      <origin
        xyz="0 0 0"
        rpy="0 0 0" />
      <geometry>
        <mesh
          filename="package://modulessai/meshes/scale14.STL" />
      </geometry>
    </collision>
  </link>
  
  
  <joint
    name="link29"
    type="fixed">
    <origin
      xyz="0 -0.00142399999999999 -0.044999999999999"
      rpy="-1.5707963267949 0 -1.5707963267949" />
    <parent
      link="slide_key2" />
    <child
      link="scale14" />
    <axis
      xyz="0 0 0" />
  </joint>
  
  
  <link
    name="scale15">
    <inertial>
      <origin
        xyz="-0.00077105796476532 0.00971959315377746 0.00999999999999904"
        rpy="0 0 0" />
      <mass
        value="0.00277406773557276" />
      <inertia
        ixx="1.47877580081592E-06"
        ixy="-6.29590944393266E-09"
        ixz="2.12473742267117E-20"
        iyy="1.54068706060032E-06"
        iyz="-2.53199139789704E-23"
        izz="6.9326362321011E-08" />
    </inertial>
    <visual>
      <origin
        xyz="0 0 0"
        rpy="0 0 0" />
      <geometry>
        <mesh
          filename="package://modulessai/meshes/scale15.STL" />
      </geometry>
      <material
        name="">
        <color
          rgba="0.717647058823529 0.819607843137255 0.701960784313725 1" />
      </material>
    </visual>
    <collision>
      <origin
        xyz="0 0 0"
        rpy="0 0 0" />
      <geometry>
        <mesh
          filename="package://modulessai/meshes/scale15.STL" />
      </geometry>
    </collision>
  </link>
  
  
  <joint
    name="link30"
    type="fixed">
    <origin
      xyz="-0.037000000000001 -0.00399999999999978 0.01"
      rpy="3.14159265358979 0 -1.5707963267949" />
    <parent
      link="slide_key2" />
    <child
      link="scale15" />
    <axis
      xyz="0 0 0" />
  </joint>
  
  
  <link
    name="scale16">
    <inertial>
      <origin
        xyz="0.00180494203523472 0.00171959315377845 -2.77555756156289E-17"
        rpy="0 0 0" />
      <mass
        value="0.00277406773557275" />
      <inertia
        ixx="1.47877580081592E-06"
        ixy="-6.29590944393176E-09"
        ixz="7.09110049336236E-22"
        iyy="1.54068706060031E-06"
        iyz="-9.12836785751222E-24"
        izz="6.93263623210107E-08" />
    </inertial>
    <visual>
      <origin
        xyz="0 0 0"
        rpy="0 0 0" />
      <geometry>
        <mesh
          filename="package://modulessai/meshes/scale16.STL" />
      </geometry>
      <material
        name="">
        <color
          rgba="0.717647058823529 0.819607843137255 0.701960784313725 1" />
      </material>
    </visual>
    <collision>
      <origin
        xyz="0 0 0"
        rpy="0 0 0" />
      <geometry>
        <mesh
          filename="package://modulessai/meshes/scale16.STL" />
      </geometry>
    </collision>
  </link>
  
  
  <joint
    name="link31"
    type="fixed">
    <origin
      xyz="0 -0.00142400000000099 0.045"
      rpy="1.5707963267949 0 -1.5707963267949" />
    <parent
      link="slide_key2" />
    <child
      link="scale16" />
    <axis
      xyz="0 0 0" />
  </joint>
  
  
  <link
    name="Slide_key_joint_single1">
    <inertial>
      <origin
        xyz="-1.94289029309402E-16 0.0040064006005785 0.0345669419794044"
        rpy="0 0 0" />
      <mass
        value="0.0205196549446733" />
      <inertia
        ixx="8.52952925068962E-06"
        ixy="-5.77787031922888E-22"
        ixz="3.54132563846202E-20"
        iyy="1.06743834501377E-05"
        iyz="-1.03900638216363E-08"
        izz="2.36373305241899E-06" />
    </inertial>
    <visual>
      <origin
        xyz="0 0 0"
        rpy="0 0 0" />
      <geometry>
        <mesh
          filename="package://modulessai/meshes/Slide_key_joint_single1.STL" />
      </geometry>
      <material
        name="">
        <color
          rgba="0.501960784313725 0.266666666666667 0.568627450980392 1" />
      </material>
    </visual>
    <collision>
      <origin
        xyz="0 0 0"
        rpy="0 0 0" />
      <geometry>
        <mesh
          filename="package://modulessai/meshes/Slide_key_joint_single1.STL" />
      </geometry>
    </collision>
  </link>
  
  
  <joint
    name="link15"
    type="fixed">
    <origin
      xyz="-0.037000000000001 -0.00399999999999981 0"
      rpy="1.3049499870484 -1.57079631189374 0.265634018818777" />
    <parent
      link="slide_key" />
    <child
      link="Slide_key_joint_single1" />
    <axis
      xyz="0 0 0" />
  </joint>
  
  
  

</robot>
